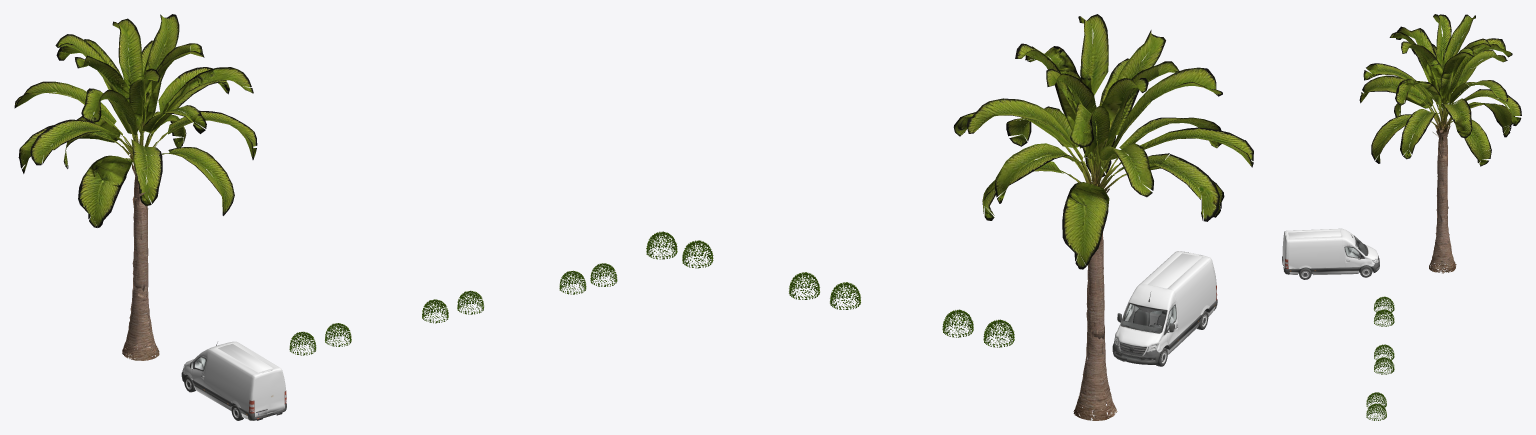
Rendered from building_refined_lod2.glb.
3 views of the same model, side by side, from view 1: azimuth 30°, elevation 25°; view 2: azimuth 150°, elevation 25°; view 3: azimuth 270°, elevation 25° (orthographic). The views are drawn at different scales.
Parts seen in each view (by area): view 1: Preserved_tripo_node_40f33689-19e3-4f47-af31-3b40153ef03f__L, Preserved_tripo_node_2564325a-fb35-49d2-8a94-c82f8eb06e11__L; view 2: Preserved_tripo_node_40f33689-19e3-4f47-af31-3b40153ef03f__L, Preserved_tripo_node_2564325a-fb35-49d2-8a94-c82f8eb06e11__L, Preserved_tripo_node_ea4b5c3e-d929-4ee4-b03d-87afa3dcea7c.00 (×5), Preserved_tripo_node_ea4b5c3e-d929-4ee4-b03d-87afa3dcea7c__L; view 3: Preserved_tripo_node_40f33689-19e3-4f47-af31-3b40153ef03f__L, Preserved_tripo_node_2564325a-fb35-49d2-8a94-c82f8eb06e11__L, Preserved_tripo_node_ea4b5c3e-d929-4ee4-b03d-87afa3dcea7c.00 (×4), Preserved_tripo_node_ea4b5c3e-d929-4ee4-b03d-87afa3dcea7c__L.
Part boxes in pixels (bbox=[...]): Preserved_tripo_node_40f33689-19e3-4f47-af31-3b40153ef03f__L: bbox=[14, 14, 257, 360]; Preserved_tripo_node_2564325a-fb35-49d2-8a94-c82f8eb06e11__L: bbox=[181, 341, 286, 420]; Preserved_tripo_node_40f33689-19e3-4f47-af31-3b40153ef03f__L: bbox=[953, 14, 1253, 420]; Preserved_tripo_node_2564325a-fb35-49d2-8a94-c82f8eb06e11__L: bbox=[1112, 251, 1217, 366]; Preserved_tripo_node_ea4b5c3e-d929-4ee4-b03d-87afa3dcea7c.00 (×5): bbox=[646, 231, 973, 337]; Preserved_tripo_node_ea4b5c3e-d929-4ee4-b03d-87afa3dcea7c__L: bbox=[983, 319, 1014, 347]; Preserved_tripo_node_40f33689-19e3-4f47-af31-3b40153ef03f__L: bbox=[1359, 14, 1521, 273]; Preserved_tripo_node_2564325a-fb35-49d2-8a94-c82f8eb06e11__L: bbox=[1282, 228, 1379, 279]; Preserved_tripo_node_ea4b5c3e-d929-4ee4-b03d-87afa3dcea7c.00 (×4): bbox=[1366, 309, 1394, 420]; Preserved_tripo_node_ea4b5c3e-d929-4ee4-b03d-87afa3dcea7c__L: bbox=[1374, 296, 1394, 313].
Size of what is drawn, in the model's own units: 12.51 by 6.88 by 6.36.
3 materials, 3 textured.
